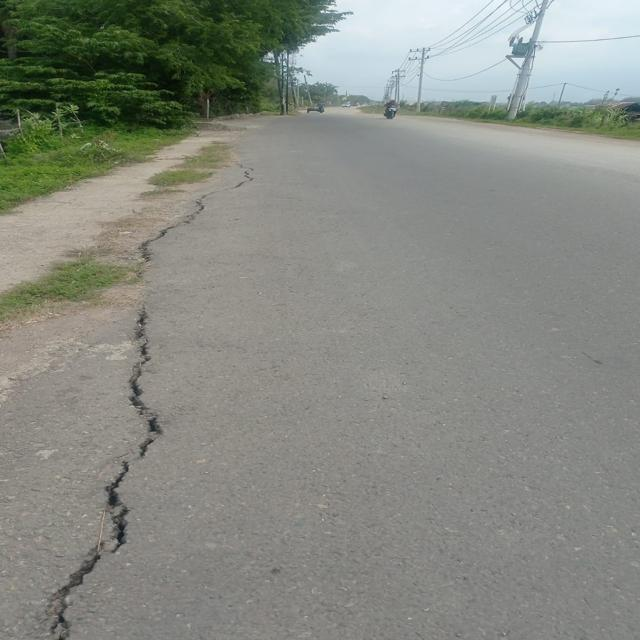Memanjang: (33, 158, 268, 640)
